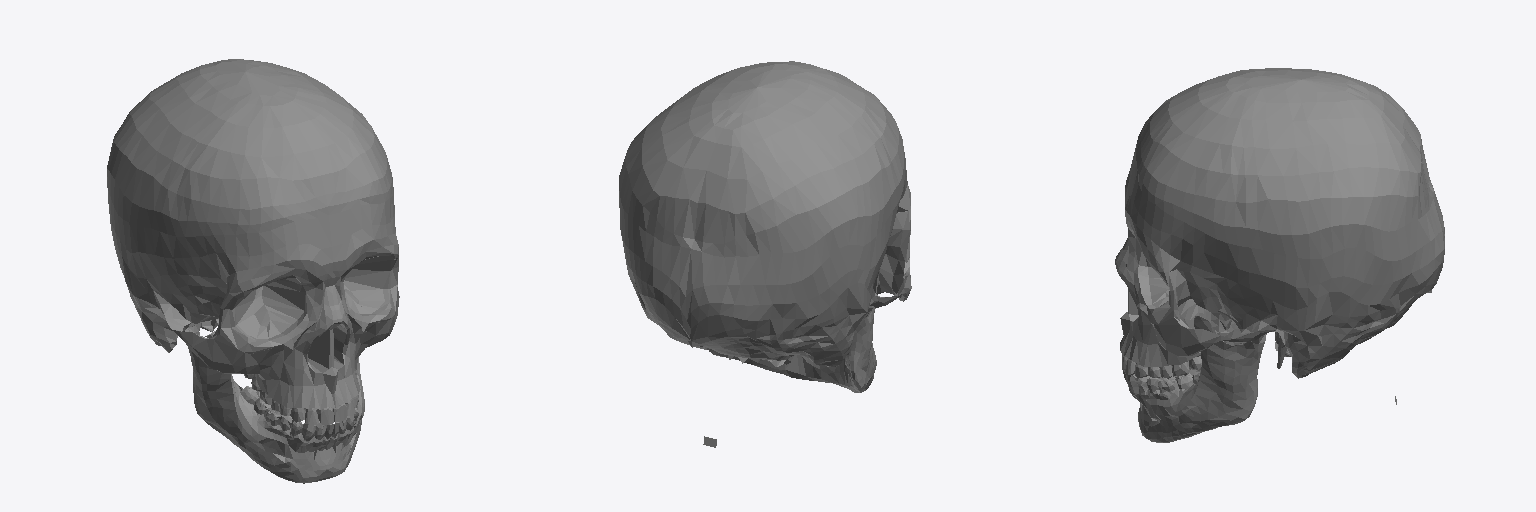
Rendered from skull.obj.
The picture shows the model from 3 angles: view 1: azimuth 30°, elevation 25°; view 2: azimuth 150°, elevation 25°; view 3: azimuth 270°, elevation 25°; orthographic projection.
Visible parts, largest first — view 1: sub01; view 2: sub01; view 3: sub01.
Boxes of the visible parts, x1=… form: sub01: x1=107, y1=59, x2=399, y2=483; sub01: x1=619, y1=61, x2=911, y2=447; sub01: x1=1115, y1=68, x2=1444, y2=442.
Size of the model in its own units: 6.2 by 8.85 by 7.51.